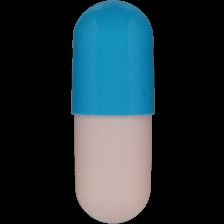68788-9677: (0, 0, 224, 224)
